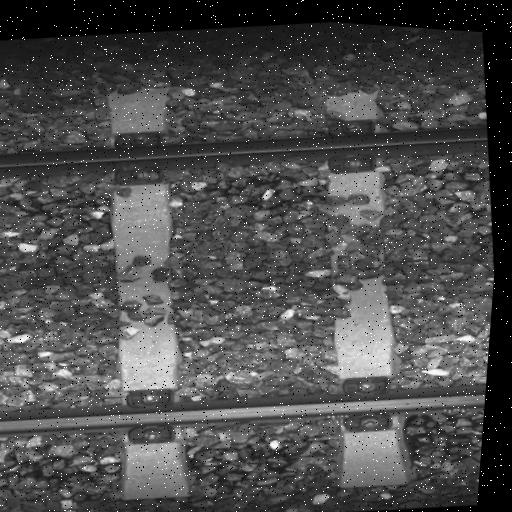sleeper: (66, 65, 227, 506), (281, 61, 431, 494)
